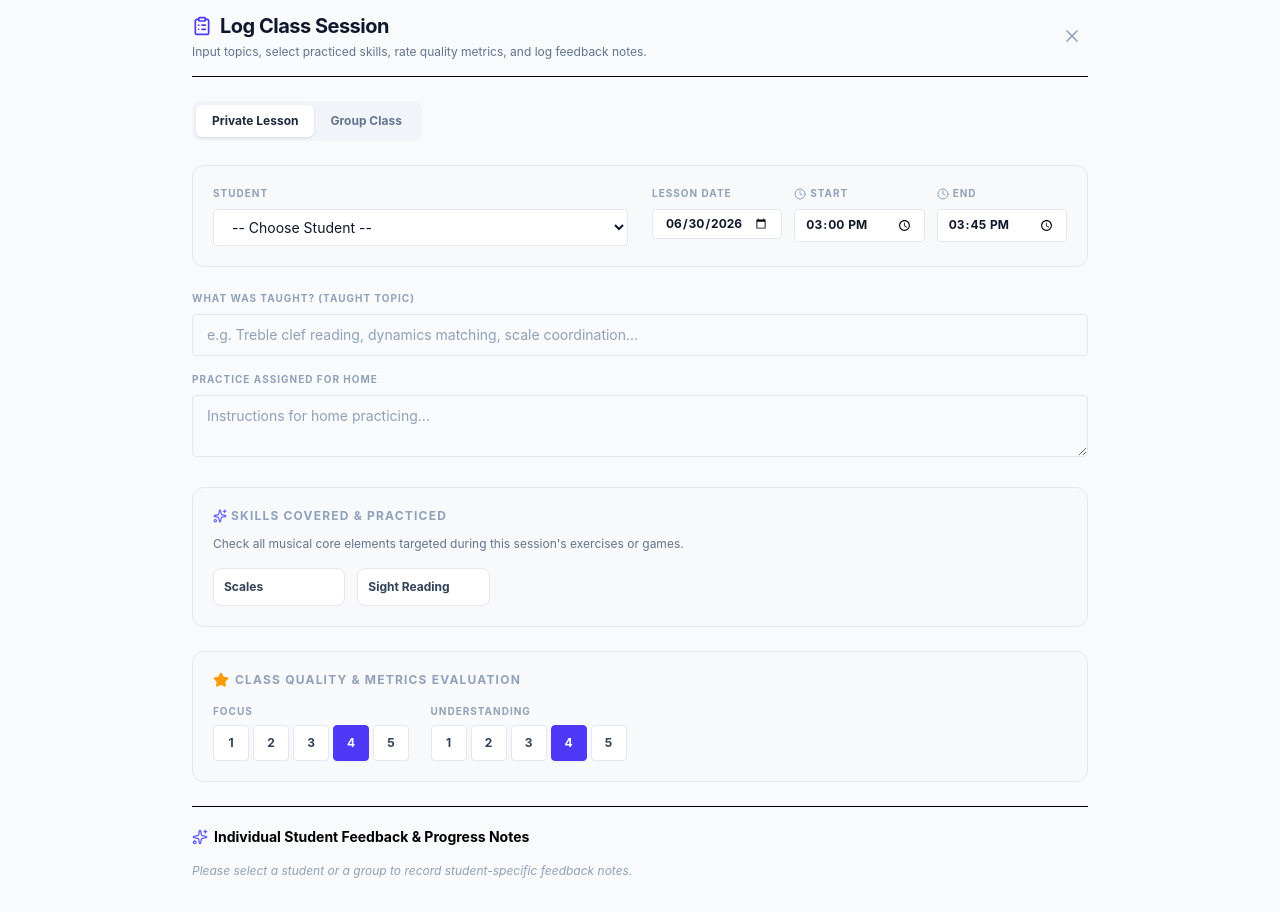
SessionForm › switches to group mode and shows group selector
// Click Group Class tab
Click the button "Group Class": (366, 121) left=314, top=105, right=418, bottom=137
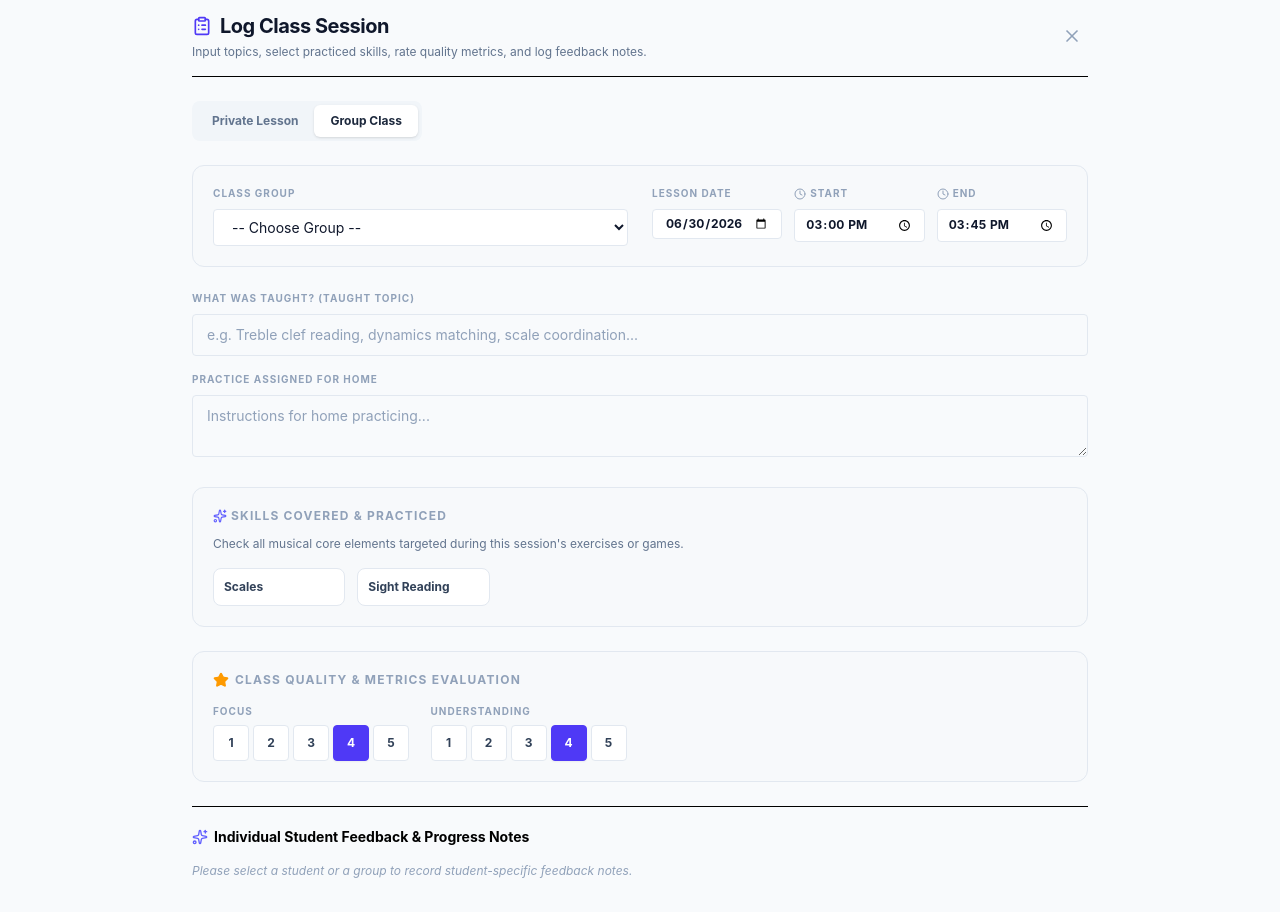
Expected: the text "Class Group" is shown, left=213, top=187, right=295, bottom=199
